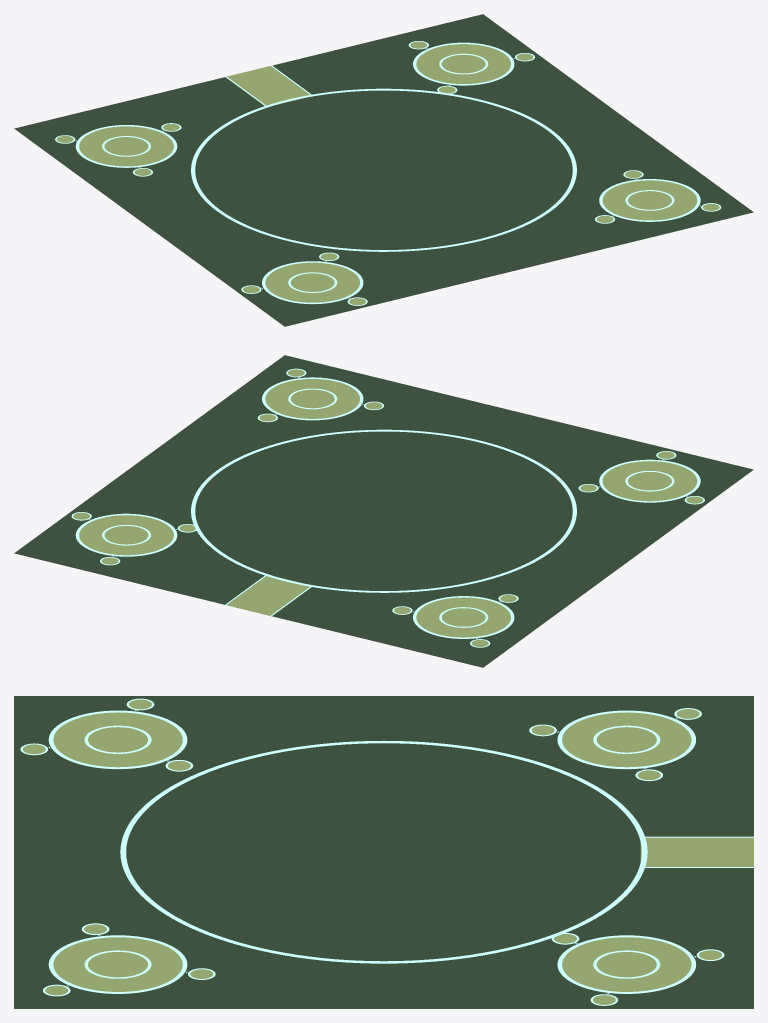
The model's file is plaza.glb.
3 renders of one model, top to bottom at view 1: azimuth 30°, elevation 25°; view 2: azimuth 150°, elevation 25°; view 3: azimuth 270°, elevation 25°, orthographic. The views are drawn at different scales.
Visible parts, largest first — view 1: Ground, CropFlat, CropGlow; view 2: Ground, CropFlat, CropGlow; view 3: Ground, CropFlat, CropGlow.
Boxes of the visible parts, x1=… form: Ground: x1=14, y1=14, x2=753, y2=326; CropFlat: x1=56, y1=41, x2=719, y2=305; CropGlow: x1=55, y1=41, x2=721, y2=305; Ground: x1=14, y1=355, x2=753, y2=667; CropFlat: x1=73, y1=369, x2=704, y2=646; CropGlow: x1=71, y1=368, x2=704, y2=647; Ground: x1=14, y1=696, x2=753, y2=1008; CropFlat: x1=22, y1=699, x2=753, y2=1005; CropGlow: x1=20, y1=698, x2=753, y2=1005.
Size of the model in its own units: 64 by 0.025 by 64.
